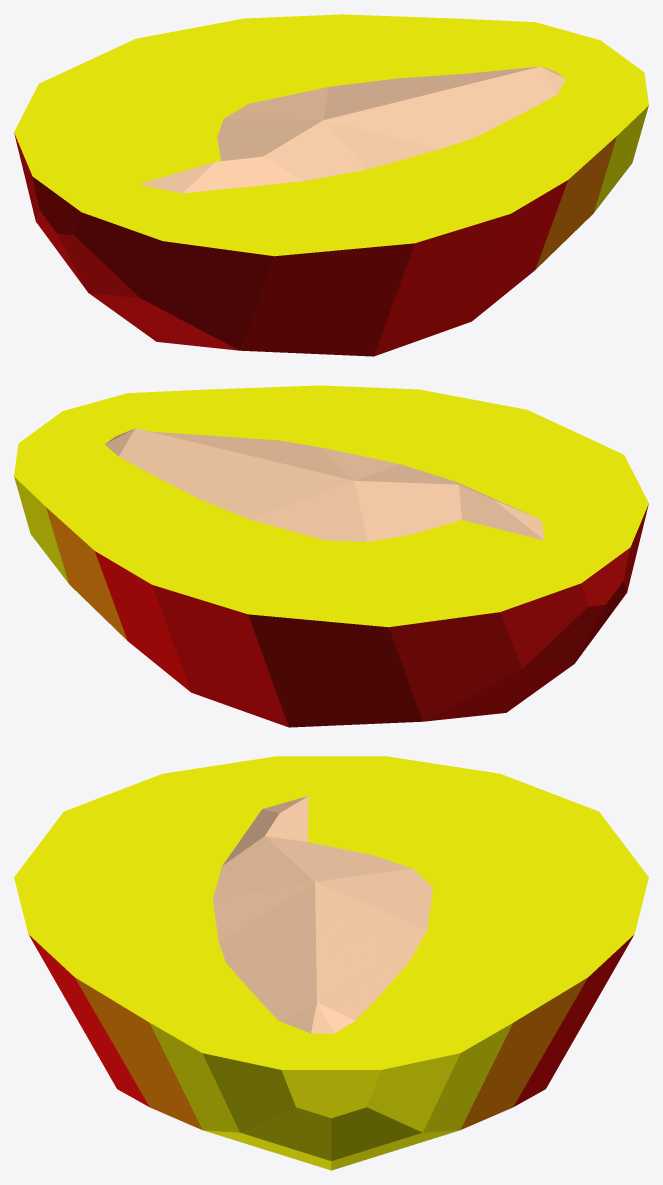
File: mango02.obj
The picture shows the model from 3 angles, top to bottom: view 1: azimuth 30°, elevation 25°; view 2: azimuth 150°, elevation 25°; view 3: azimuth 270°, elevation 25°; orthographic projection. The views are drawn at different scales.
Parts seen in each view (by area): view 1: Cylinder; view 2: Cylinder; view 3: Cylinder.
Boxes of the visible parts, x1=… form: Cylinder: x1=14, y1=14, x2=648, y2=356; Cylinder: x1=14, y1=385, x2=648, y2=727; Cylinder: x1=14, y1=756, x2=648, y2=1170.
Size of the model in its own units: 0.1116 by 0.0417 by 0.0955.
1 material, 1 textured.
